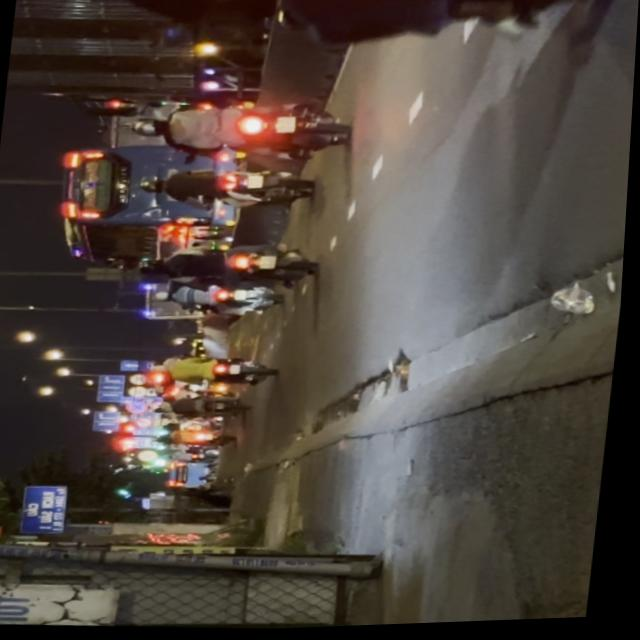licenseplate: (10, 0, 640, 78), (123, 92, 356, 169)
nohelmet: (275, 116, 297, 135)
